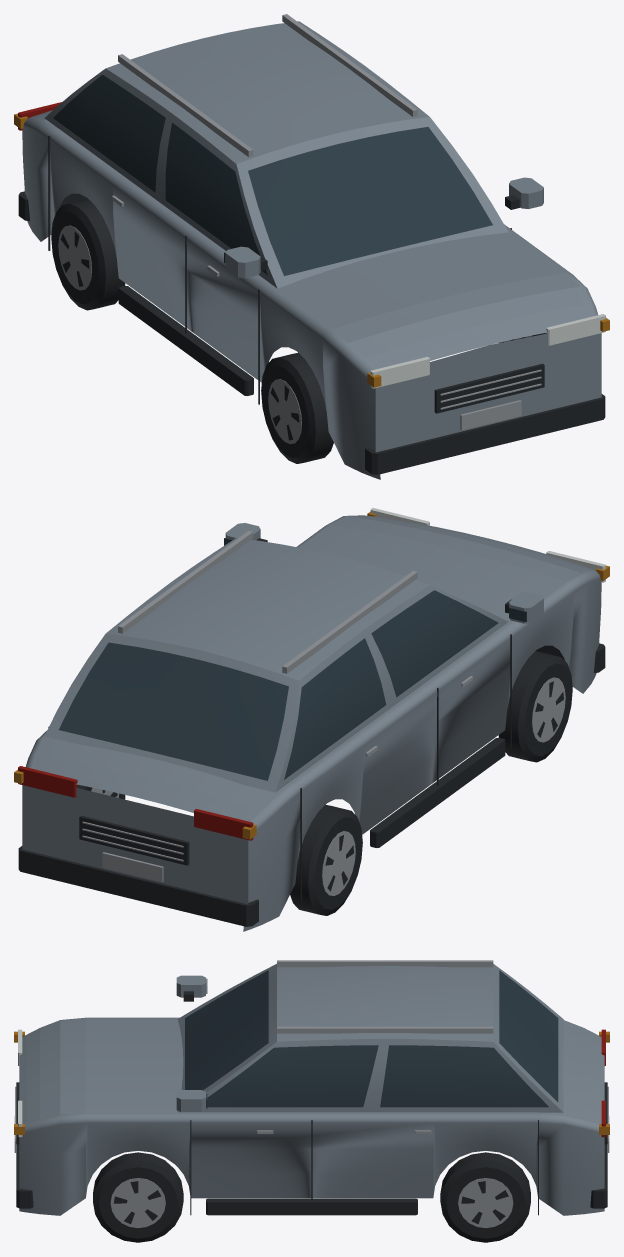
The model's file is suv.glb.
3 views of the same model, one above another, from view 1: azimuth 30°, elevation 25°; view 2: azimuth 150°, elevation 25°; view 3: azimuth 270°, elevation 25° (orthographic). The views are drawn at different scales.
Parts seen in each view (by area): view 1: paint-body, glass-body, rubber-body, rubber-wheel-front-left (×2), alloy-body, alloy-wheel-front-left (×2), headlamp-body; view 2: paint-body, glass-body, rubber-body, rubber-wheel-front-left (×2), alloy-body, alloy-wheel-front-left (×2), taillamp-body, headlamp-body; view 3: paint-body, glass-body, rubber-wheel-front-left (×2), rubber-body, alloy-wheel-front-left (×2), alloy-body.
Part boxes in pixels (x1,y1,x2,y2): paint-body: [22, 21, 601, 479]; glass-body: [53, 74, 492, 275]; rubber-body: [18, 135, 605, 474]; rubber-wheel-front-left (×2): [51, 199, 333, 463]; alloy-body: [112, 14, 541, 430]; alloy-wheel-front-left (×2): [58, 225, 301, 443]; headlamp-body: [370, 314, 605, 388]; paint-body: [22, 515, 601, 931]; glass-body: [59, 538, 526, 780]; rubber-body: [18, 538, 605, 926]; rubber-wheel-front-left (×2): [290, 651, 572, 915]; alloy-body: [82, 530, 472, 882]; alloy-wheel-front-left (×2): [322, 677, 565, 895]; taillamp-body: [18, 766, 253, 840]; headlamp-body: [370, 508, 605, 582]; paint-body: [19, 964, 604, 1215]; glass-body: [185, 970, 558, 1108]; rubber-wheel-front-left (×2): [93, 1152, 530, 1242]; rubber-body: [16, 991, 607, 1215]; alloy-wheel-front-left (×2): [110, 1178, 513, 1228]; alloy-body: [14, 960, 609, 1152].
Bounding box in the file's own units: 2.29 × 1.7 × 4.66.
